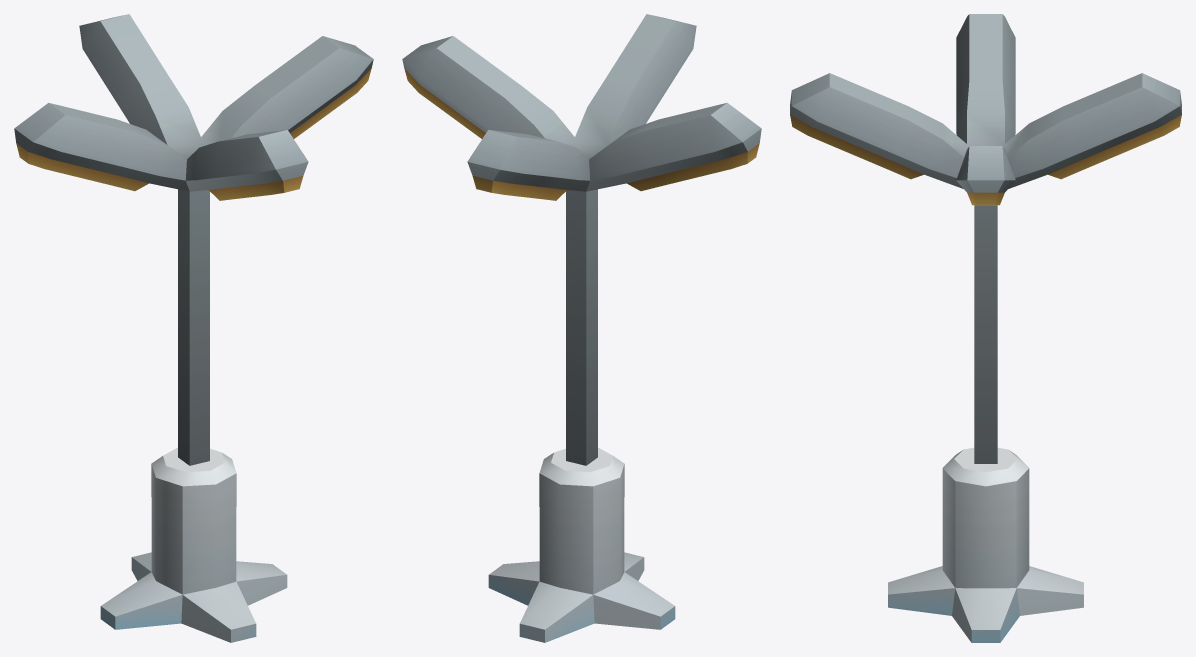
Rendered from kay-holofotes.gltf.
3 renders of one model, left to right at view 1: azimuth 30°, elevation 25°; view 2: azimuth 150°, elevation 25°; view 3: azimuth 270°, elevation 25°, orthographic.
Visible parts, largest first — view 1: lights; view 2: lights; view 3: lights.
Boxes of the visible parts, x1=… form: lights: x1=14, y1=14, x2=373, y2=642; lights: x1=402, y1=14, x2=761, y2=642; lights: x1=790, y1=14, x2=1181, y2=642.
Size of the model in its own units: 1.77 by 2.6 by 1.77.
Materials: 1 (1 with a texture image).
